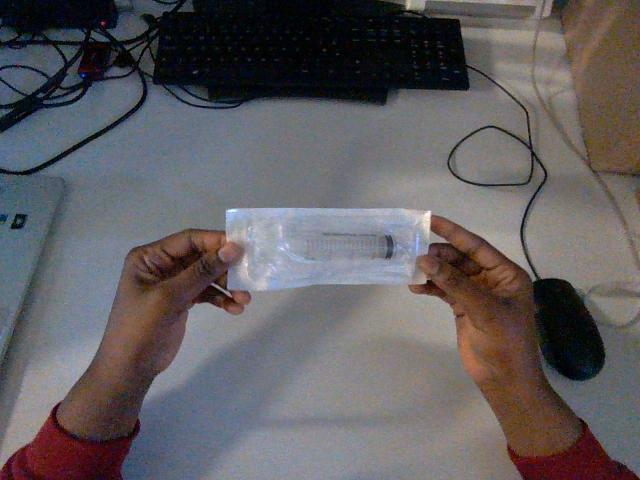syringe: (226, 208, 429, 290)
